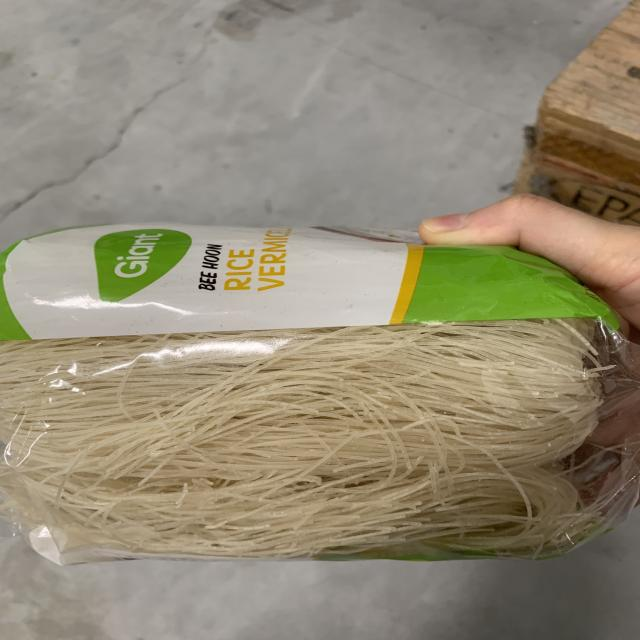object_name: (0, 241, 622, 543)
